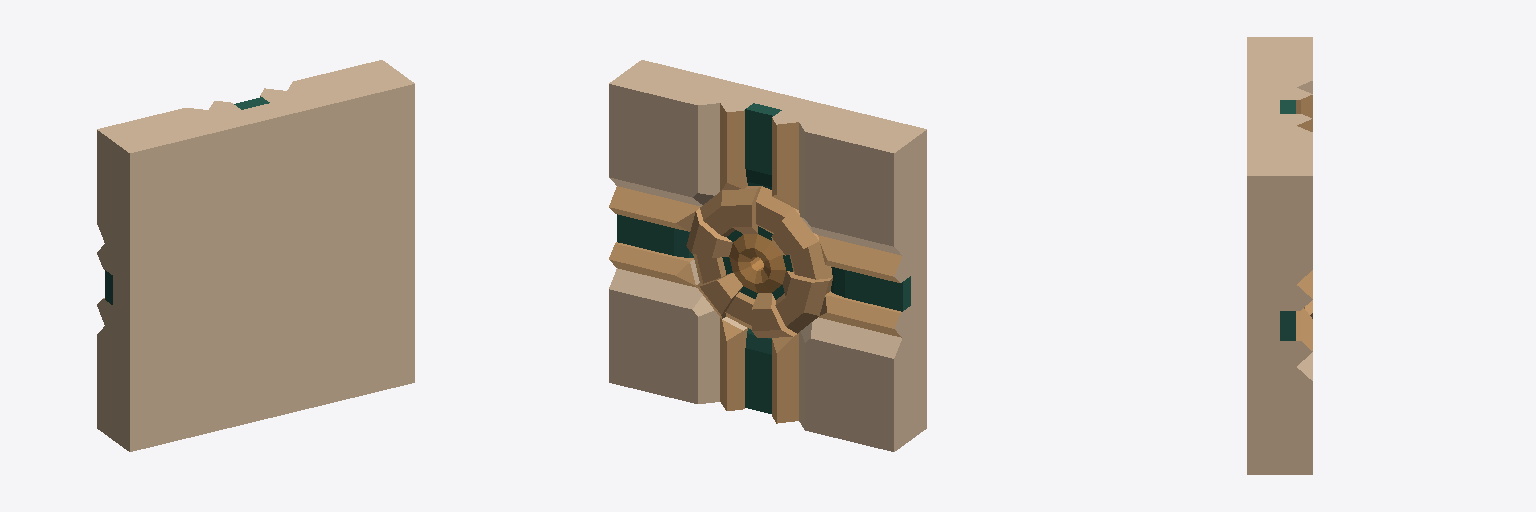
The model's file is Puzzle_Wall_Conduit_Emitter_Cross.obj.
The picture shows the model from 3 angles: view 1: azimuth 30°, elevation 25°; view 2: azimuth 150°, elevation 25°; view 3: azimuth 270°, elevation 25°; orthographic projection.
Parts seen in each view (by area): view 1: object7; view 2: object7, object6, object2, object3, object4, object1, object5; view 3: object7.
Boxes of the visible parts, <box> form: object7: <box>97,60,414,451</box>; object7: <box>609,60,926,451</box>; object6: <box>686,186,832,337</box>; object2: <box>745,103,781,189</box>; object3: <box>831,267,910,311</box>; object4: <box>745,328,771,413</box>; object1: <box>617,214,693,257</box>; object5: <box>722,226,792,299</box>; object7: <box>1247,37,1312,474</box>.
Bounding box in the file's own units: 1 × 1 × 0.2.